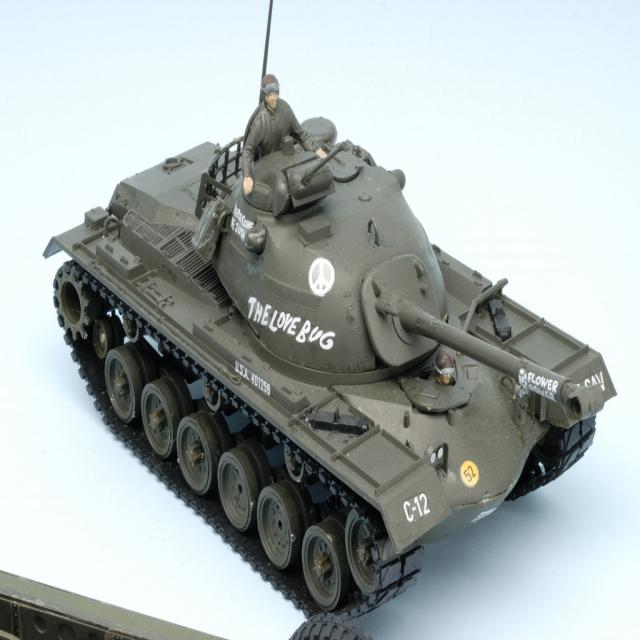tank: (42, 0, 619, 619)
